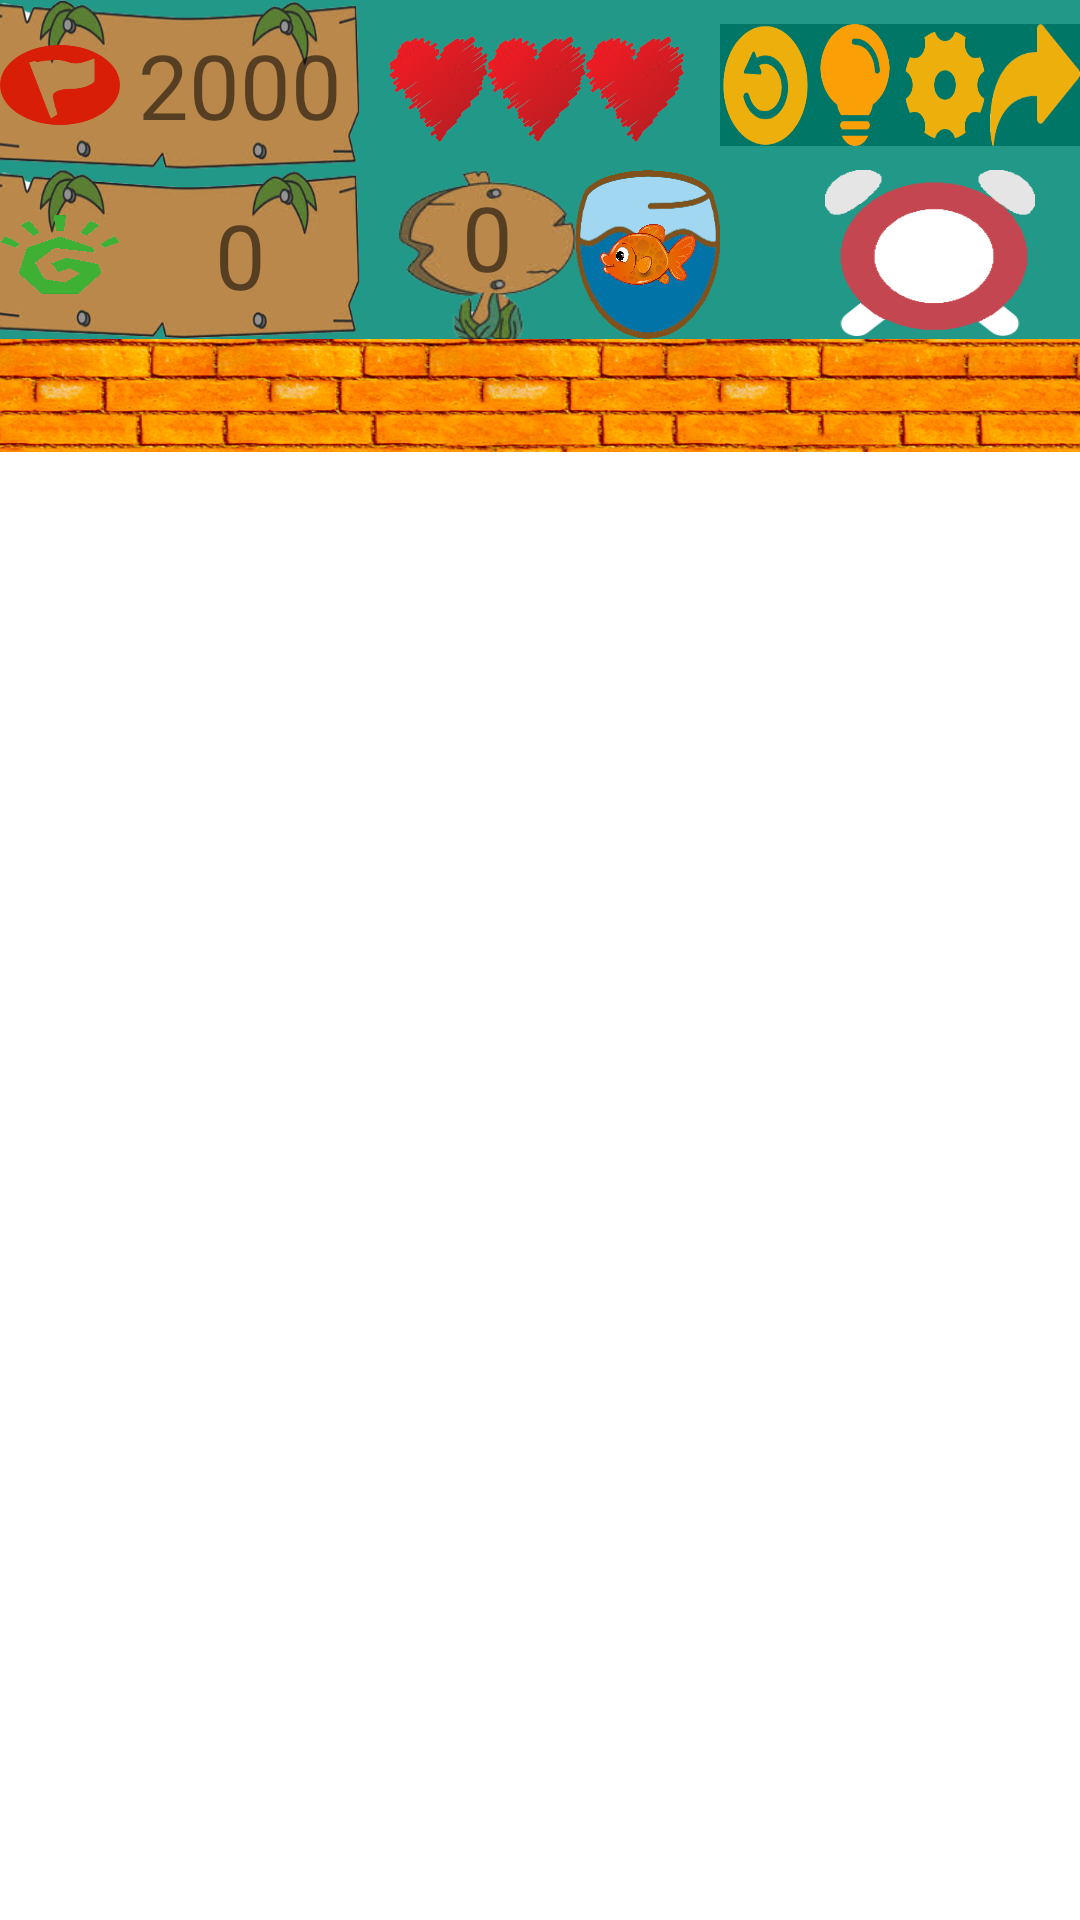

Icons on this 1080px x 1920px Android screen, each with the point to tap as (x,y):
fish: (648,254)
game target: (60,85)
restart: (765,85)
settings: (945,85)
tips: (855,85)
